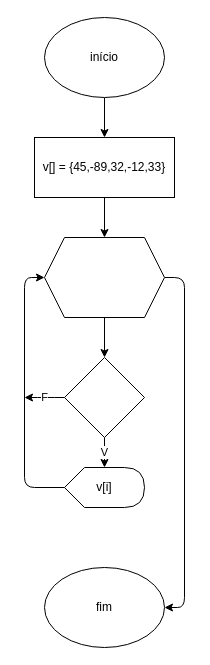
Some shapes in this 210 by 665 pixel diagram are drawn without their labels. The box of each missing label's shape, as (x1, y1, x2, y2) in pixels:
i,0,4,1: (44, 236, 164, 318)
v[i] % 2 == 0: (64, 356, 144, 438)
